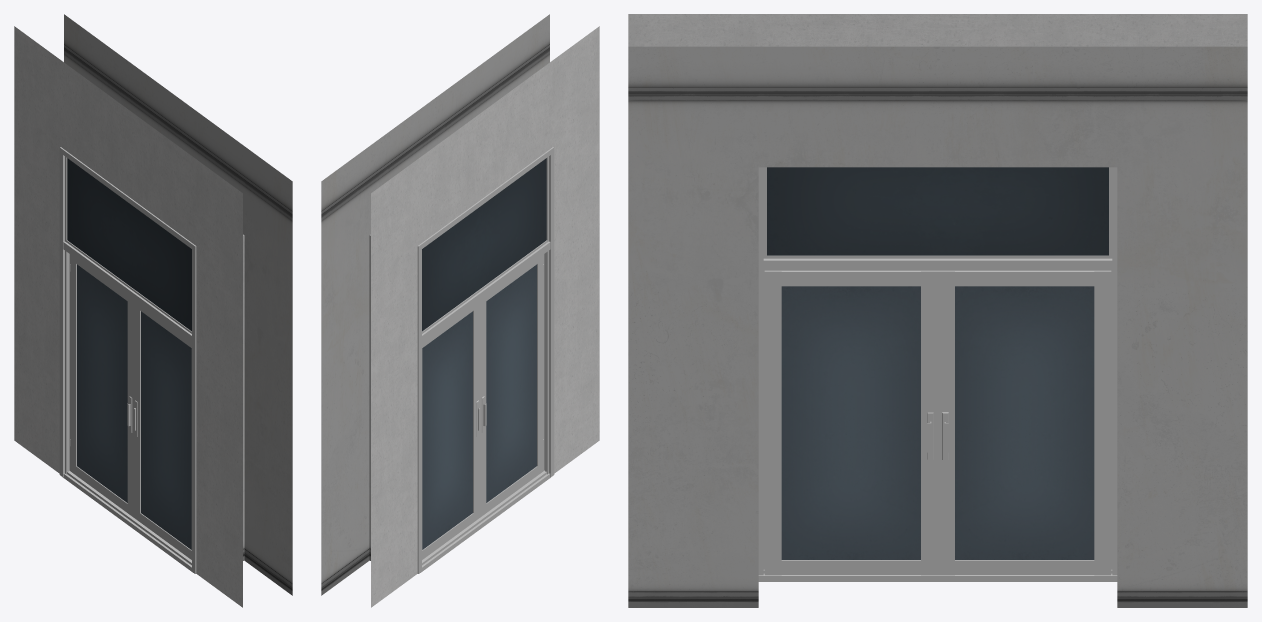
The model's file is MB_Entrance_A_04.fbx.
3 views of the same model, side by side, from view 1: azimuth 30°, elevation 25°; view 2: azimuth 150°, elevation 25°; view 3: azimuth 270°, elevation 25° (orthographic). The views are drawn at different scales.
Parts seen in each view (by area): view 1: MB_Entrance_A_04, MB_Door_Glass_05, MB_Door_Glass_04; view 2: MB_Entrance_A_04, MB_Door_Glass_04, MB_Door_Glass_05; view 3: MB_Entrance_A_04, MB_Door_Glass_04, MB_Door_Glass_05.
Boxes of the visible parts, bbox=[...] form: MB_Entrance_A_04: bbox=[14, 14, 292, 607]; MB_Door_Glass_05: bbox=[69, 254, 133, 517]; MB_Door_Glass_04: bbox=[133, 301, 191, 559]; MB_Entrance_A_04: bbox=[321, 14, 599, 607]; MB_Door_Glass_04: bbox=[480, 254, 544, 517]; MB_Door_Glass_05: bbox=[422, 301, 480, 559]; MB_Entrance_A_04: bbox=[628, 14, 1247, 607]; MB_Door_Glass_04: bbox=[764, 270, 937, 575]; MB_Door_Glass_05: bbox=[938, 270, 1111, 575].
Bounding box in the file's own units: 51.24 × 401 × 400.
